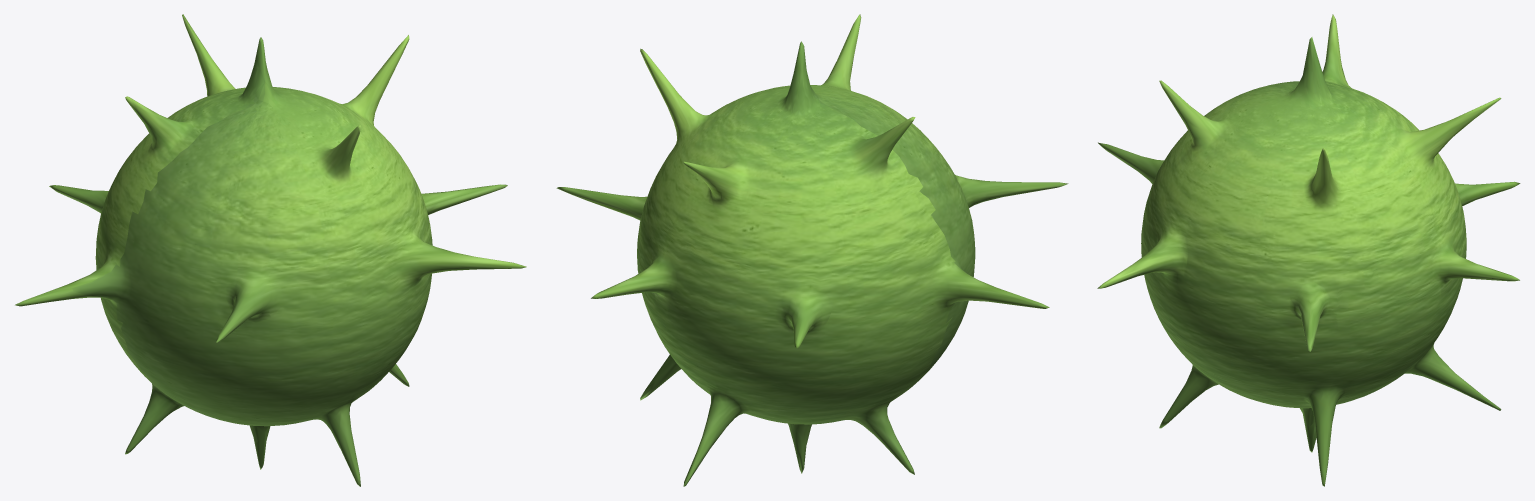
Rendered from bacteria_optimised.obj.
3 renders of one model, left to right at view 1: azimuth 30°, elevation 25°; view 2: azimuth 150°, elevation 25°; view 3: azimuth 270°, elevation 25°, orthographic. The views are drawn at different scales.
Visible parts, largest first — view 1: bacteria; view 2: bacteria; view 3: bacteria.
Part boxes in pixels (left/top/right/bottom): bacteria: left=15, top=14, right=526, bottom=486; bacteria: left=556, top=14, right=1068, bottom=486; bacteria: left=1097, top=14, right=1520, bottom=486.
Bounding box in the file's own units: 3.33 × 2.79 × 2.57.
